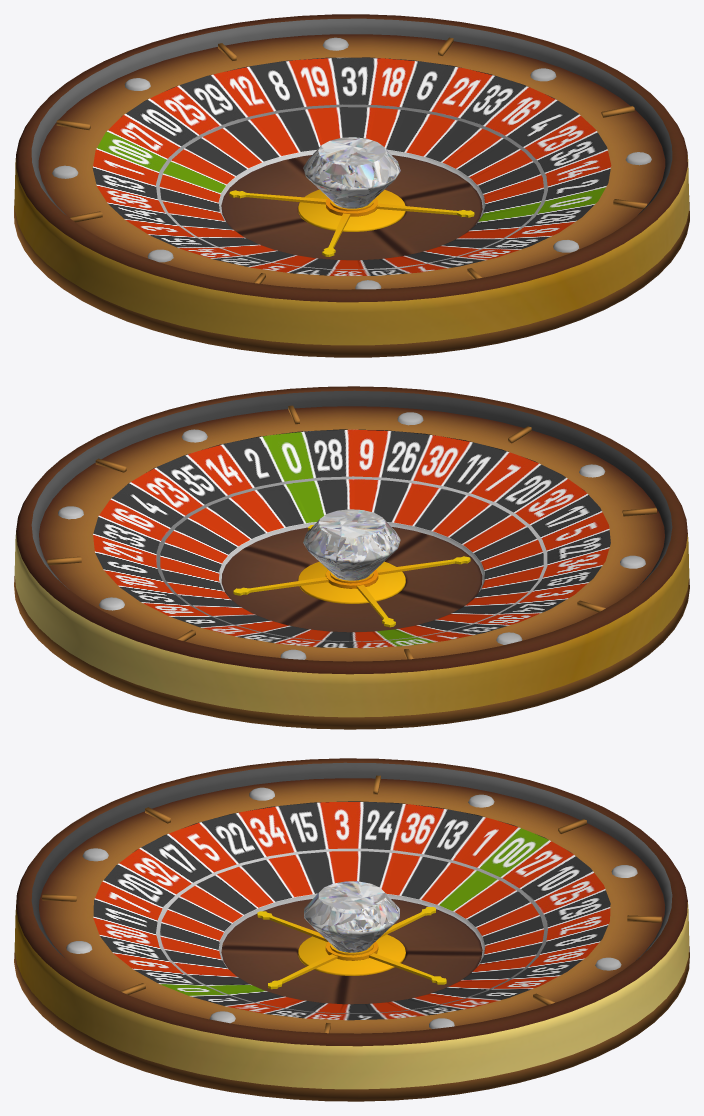
File: Roultte__.fbx
The picture shows the model from 3 angles, top to bottom: view 1: azimuth 30°, elevation 25°; view 2: azimuth 150°, elevation 25°; view 3: azimuth 270°, elevation 25°; orthographic projection.
Visible parts, largest first — view 1: Outer, Inner, Diamond; view 2: Outer, Inner, Diamond; view 3: Outer, Inner, Diamond.
Part boxes in pixels (<box>): Outer: <box>14,14,689,357</box>; Inner: <box>92,57,611,275</box>; Diamond: <box>303,137,400,208</box>; Outer: <box>14,386,689,729</box>; Inner: <box>93,429,610,648</box>; Diamond: <box>303,509,400,580</box>; Outer: <box>14,758,689,1101</box>; Inner: <box>93,801,610,1020</box>; Diamond: <box>304,881,399,952</box>.
Size of the model in its own units: 34.44 by 3.62 by 34.44.
Materials: 4 (4 with a texture image).
